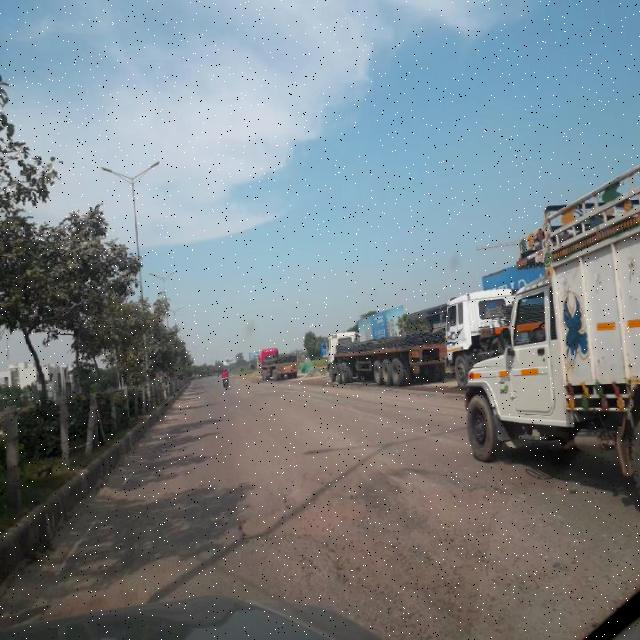D40: (220, 458, 569, 604)
